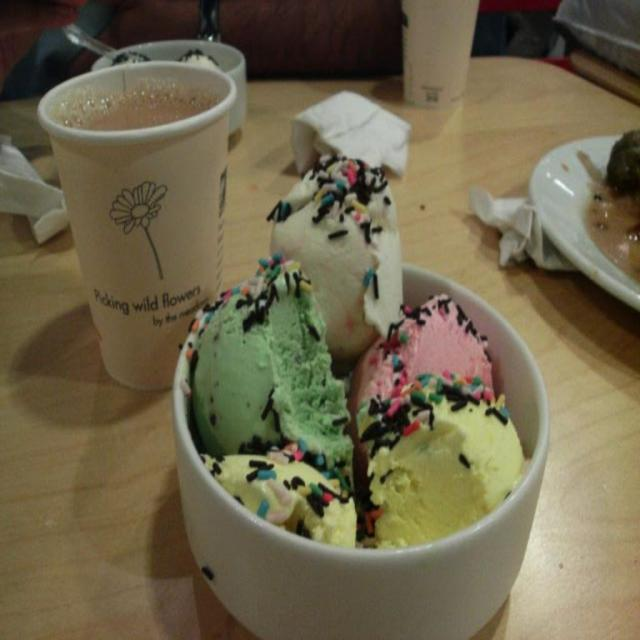Coffee: (54, 84, 223, 134)
